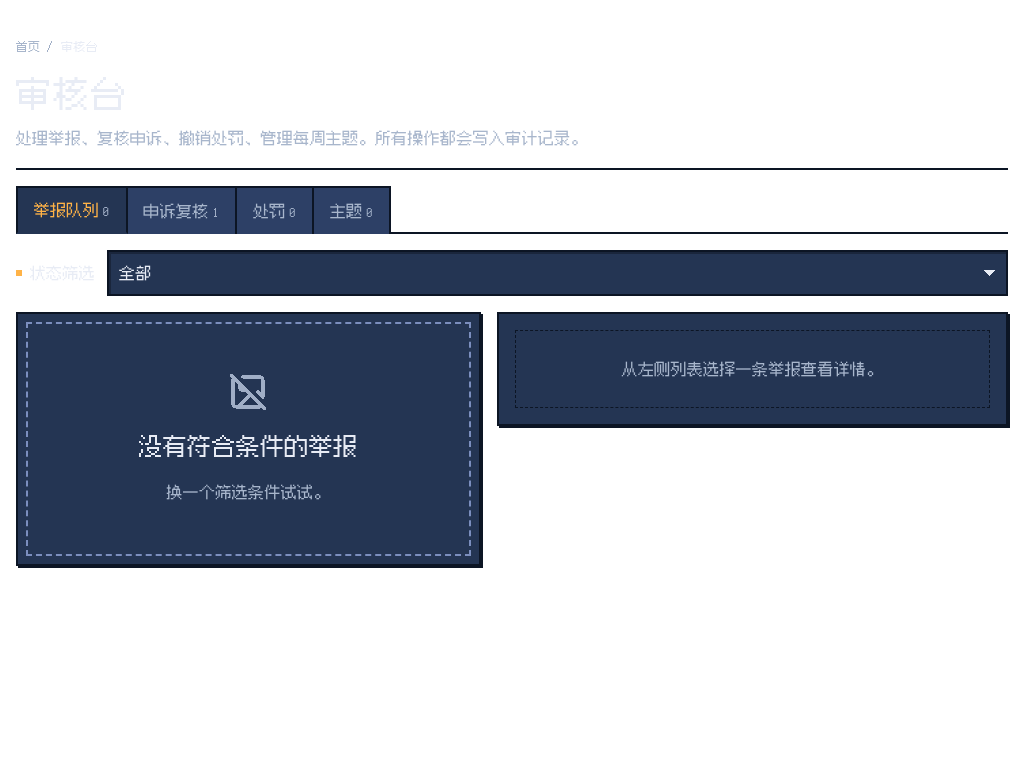
Test: 申诉复核 › 已复核的申诉不再提供复核按钮
The width and height of the screenshot is (1024, 768).
Click the tab "申诉复核1" at (181, 210), box [126,186,237,234]
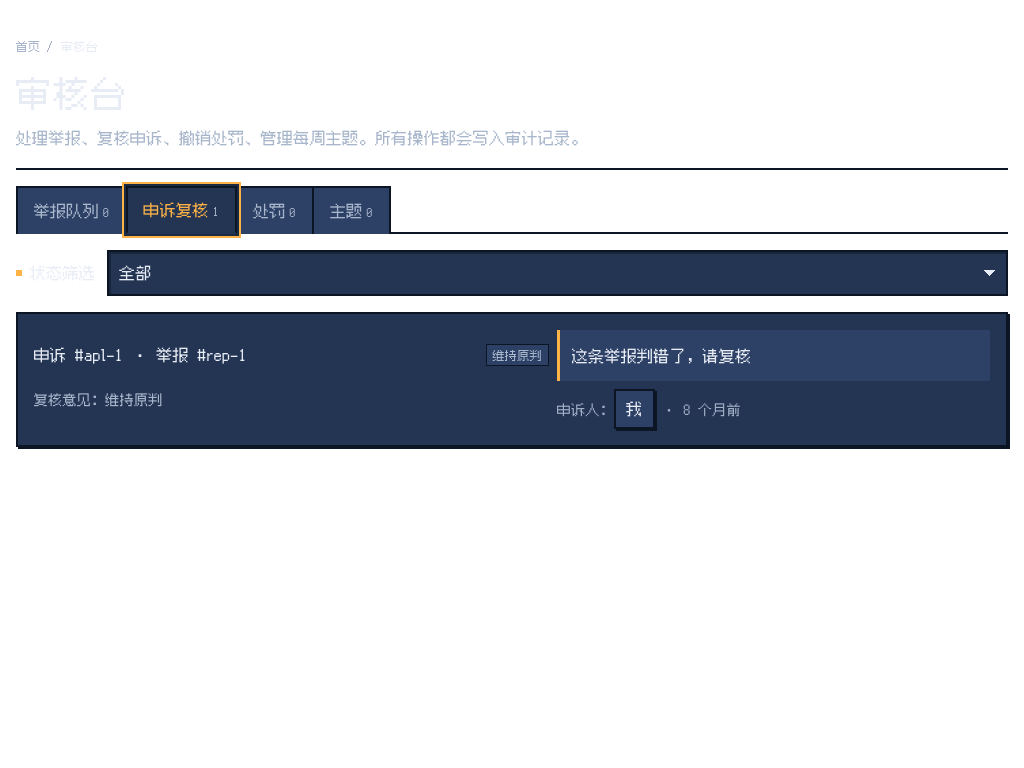
Expected: the text "复核意见：维持原判" is shown, [34,390,163,409]
